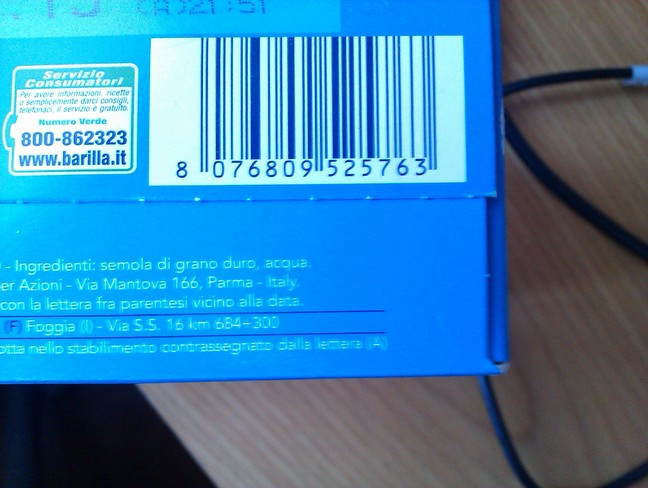detection: (151, 36, 465, 185)
